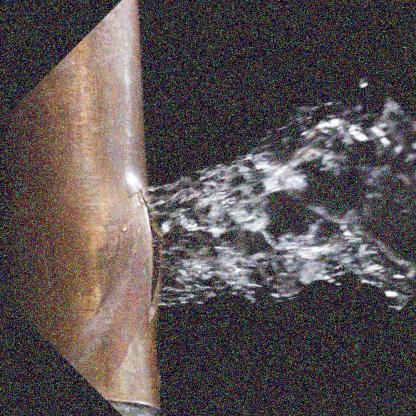burst: (125, 194, 189, 323)
